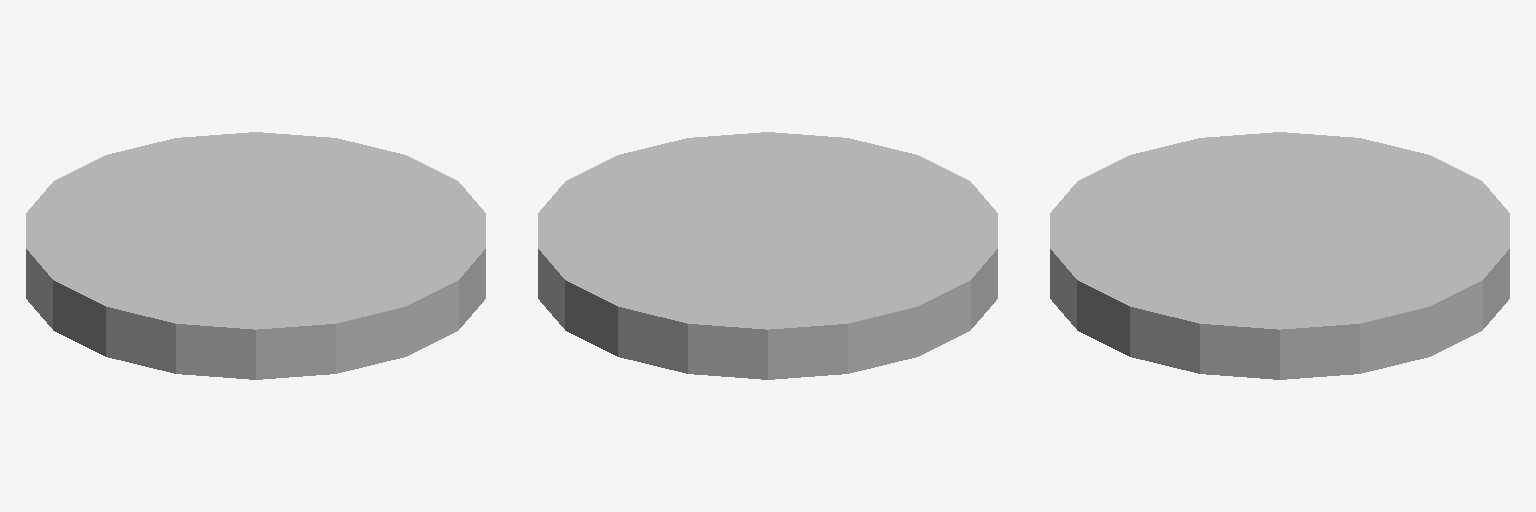
Rendered from Rainbow_Coin.obj.
The picture shows the model from 3 angles: view 1: azimuth 30°, elevation 25°; view 2: azimuth 150°, elevation 25°; view 3: azimuth 270°, elevation 25°; orthographic projection.
Parts seen in each view (by area): view 1: Cylinder001; view 2: Cylinder001; view 3: Cylinder001.
Part boxes in pixels (bbox=[...]): Cylinder001: bbox=[26, 132, 485, 379]; Cylinder001: bbox=[538, 132, 997, 379]; Cylinder001: bbox=[1050, 132, 1509, 379].
Bounding box in the file's own units: 25.71 × 3.05 × 25.32.